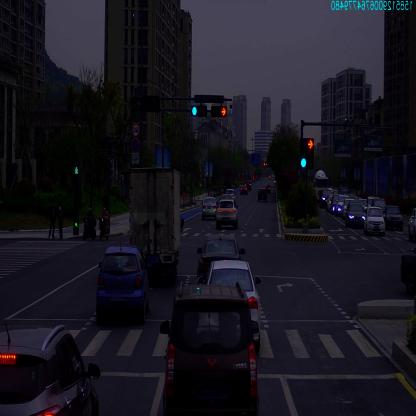traffic-light: (211, 106, 227, 116), (190, 106, 206, 116)
